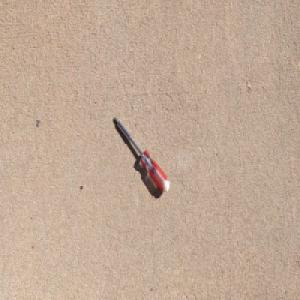Screwdriver: (113, 113, 171, 194)
